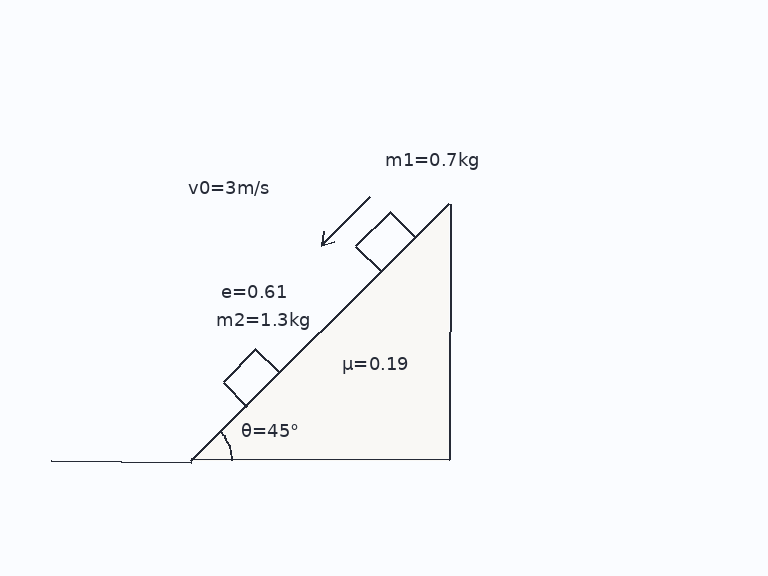block: (354, 210, 417, 273), (220, 347, 281, 408)
ramp: (190, 201, 451, 462)
